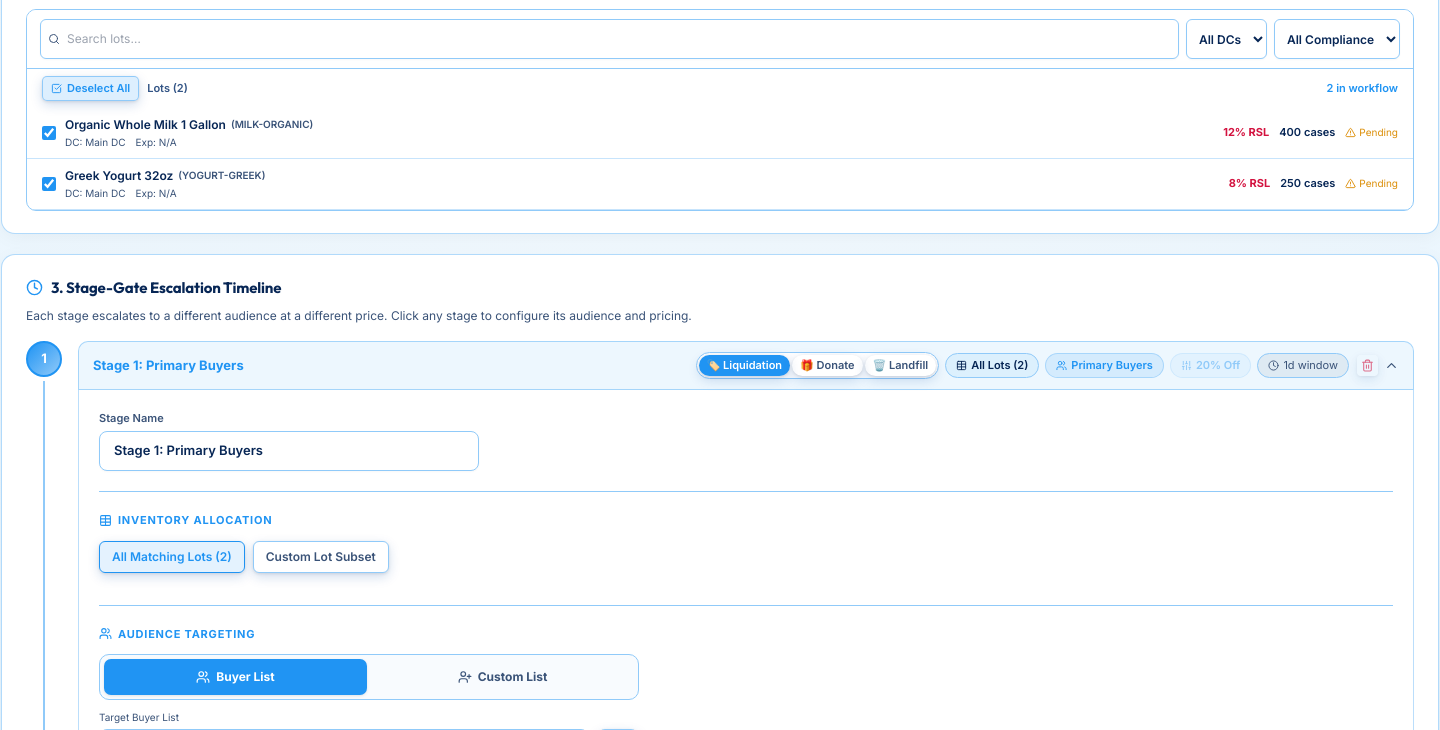
0093 — Slice 4: Stage-Type Validation Guardrails & Persistence Verification › Seam 1: Stage-Specific Validation Rules and Error Banners › displays validation error banner for Donation stage with 0 targeted partners or 0 allocated lots
The width and height of the screenshot is (1440, 730).
(page scrolled)
// Switch Stage 1 to Donation
Click the button with test id "stage-1-type-donation" at (827, 365), box [792,355,863,376]
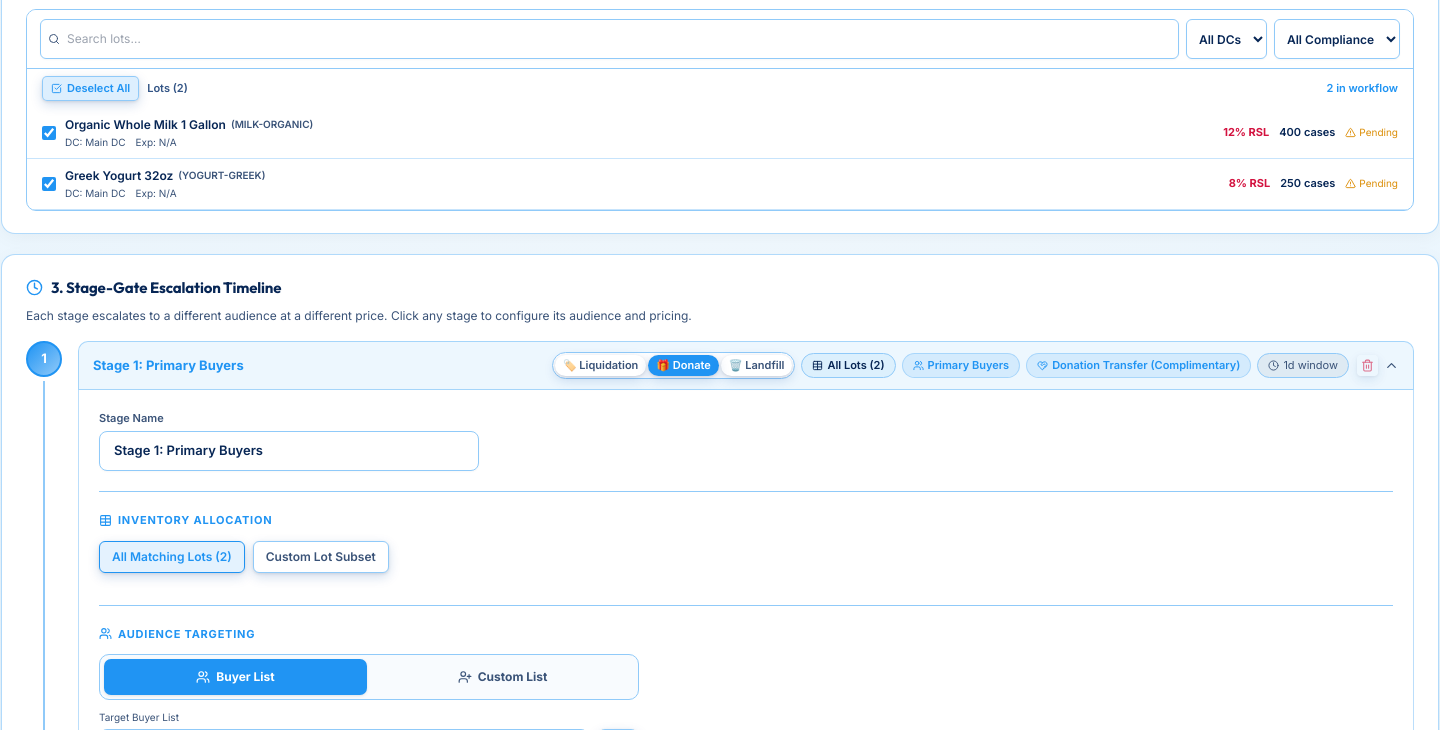
// Switch audience mode to custom and ensure 0 partners selected
Click the button with test id "stage-audience-mode-custom" at (502, 677), box [371,659,634,695]
(page scrolled)
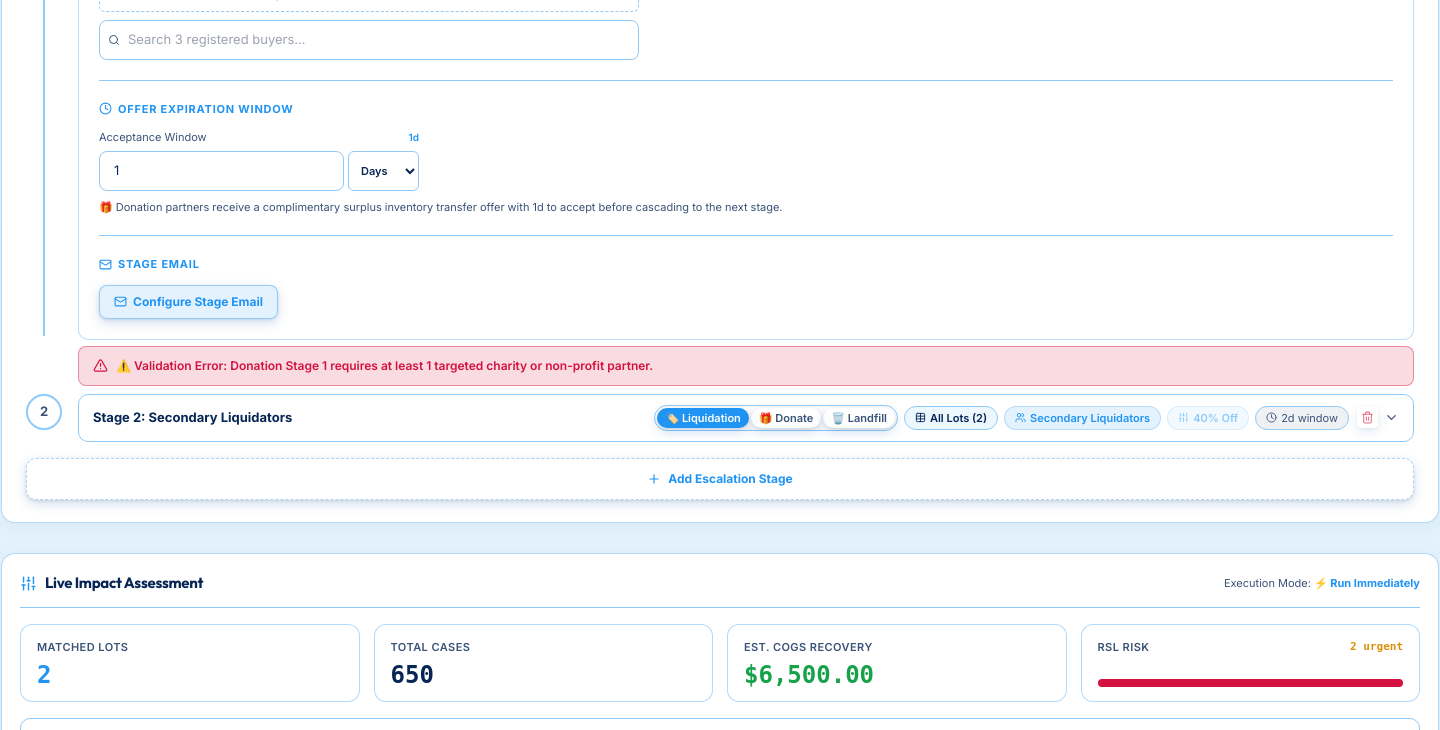
Expected: the element with test id "stage-1-validation-error" is shown, [78,346,1414,386]
Expected: the text "Donation Stage 1 requires at least 1 targeted charity or non-profit partner" is shown, [230,358,653,372]
